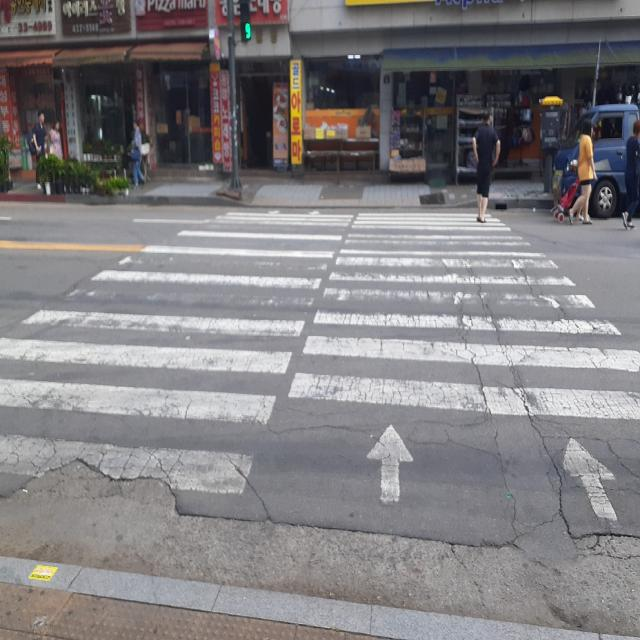횡단보도: (0, 208, 640, 523)
